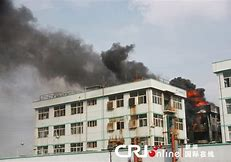smoke: (1, 1, 150, 79)
